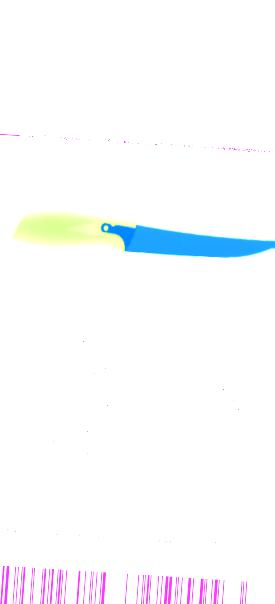KnifeCustom: (14, 212, 274, 259)
